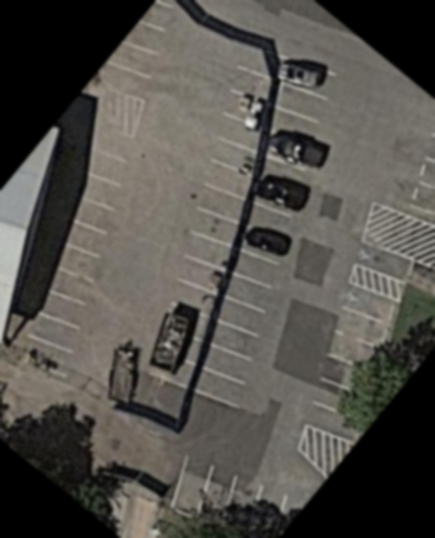parkingspot: (190, 55, 338, 412), (14, 140, 131, 380), (168, 110, 262, 322), (301, 282, 398, 446), (168, 452, 310, 538), (94, 0, 176, 105), (402, 106, 435, 221), (350, 237, 414, 285), (225, 62, 276, 107)
